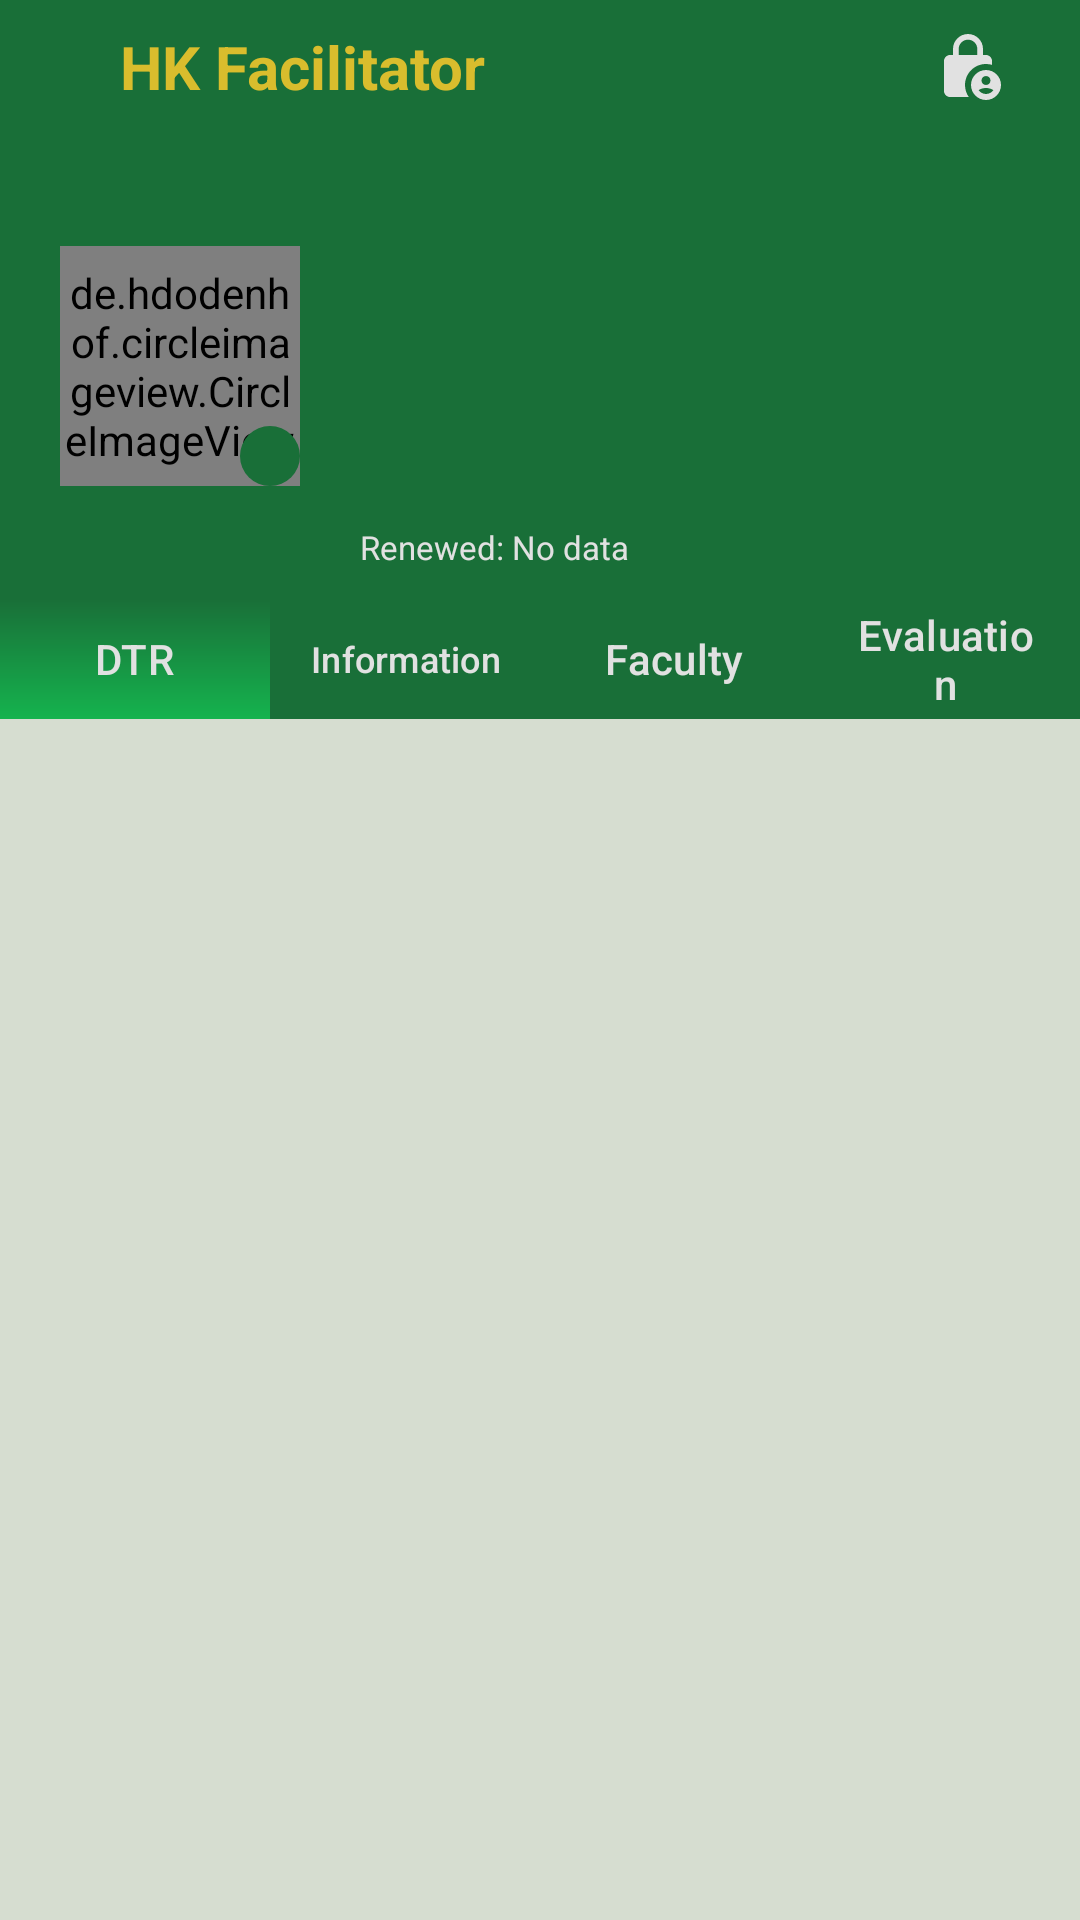

Icons on this 1080 x 1920 Android screen, each with the point to tap as (x,y):
Change password: (972,67)
